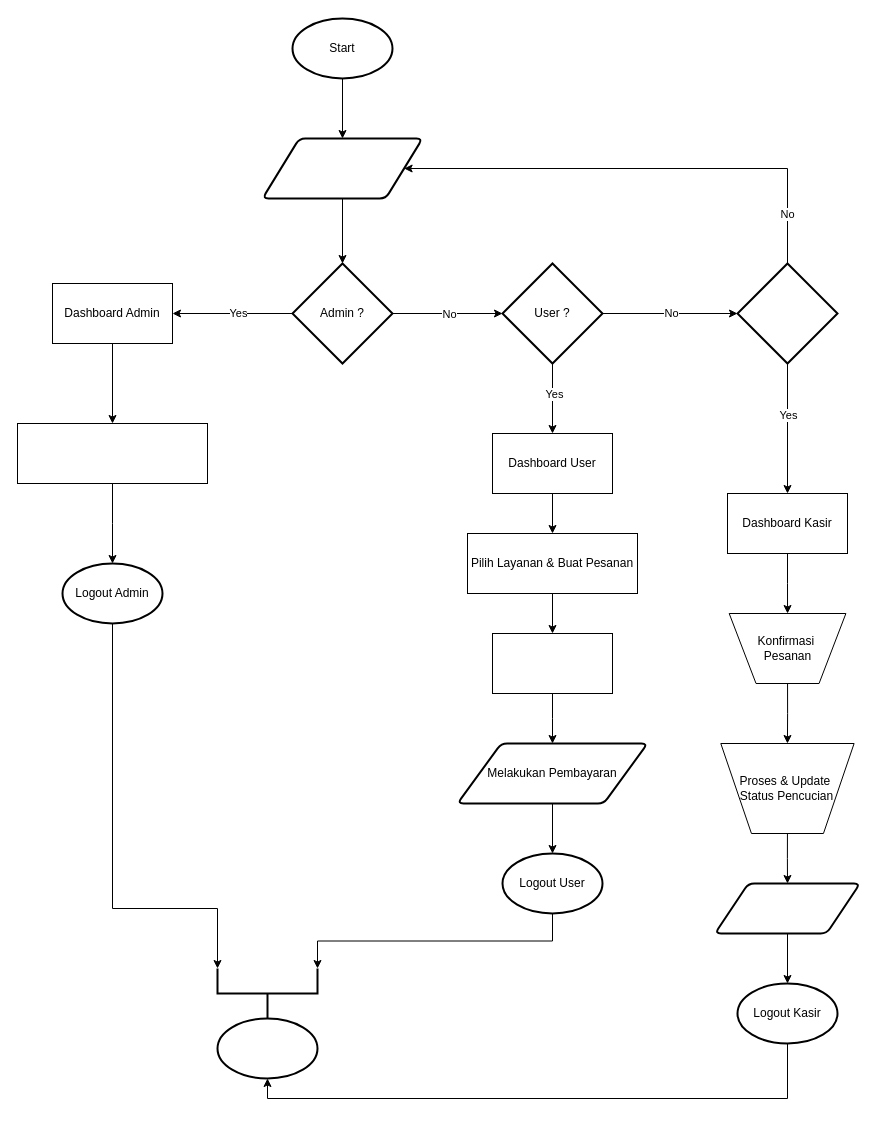
The diagram is 878 pixels wide and 1124 high, and some of its shapes have lost their labels. Each missing label, with the centre of its shape:
"End" belongs at point (267, 1048).
"Input Pembayaran" belongs at point (787, 908).
"Kasir ?" belongs at point (787, 313).
"Kelola Data (Layanan/User/Kasir/laporan)" belongs at point (112, 453).
"Lihat Status Cucian" belongs at point (552, 663).
"Login (Pilih Role)" belongs at point (342, 168).
